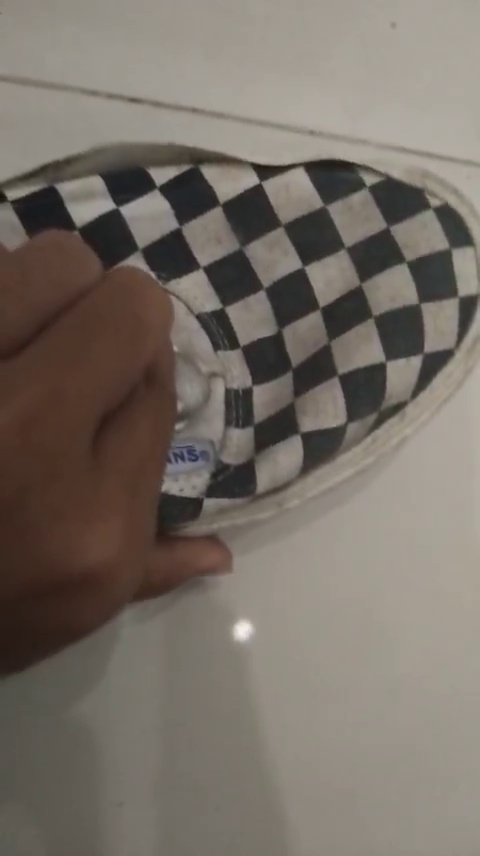bonding: (0, 133, 263, 184), (276, 142, 381, 182)
